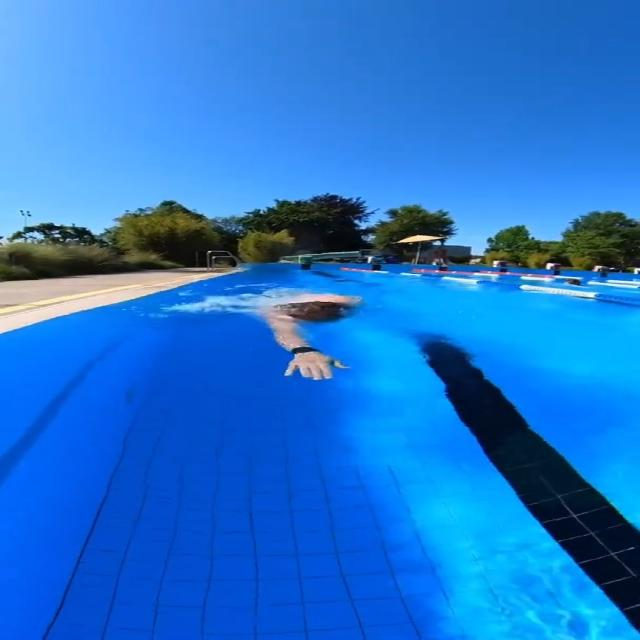Swimming: (252, 288, 374, 381)
